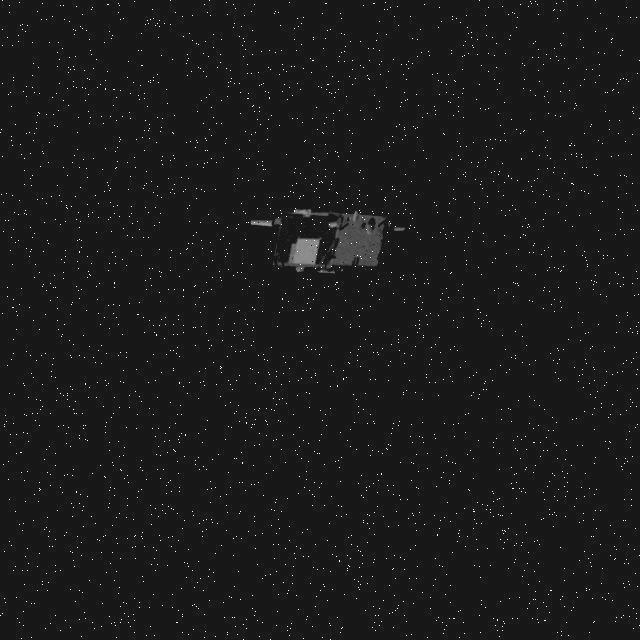medium_debris: (232, 190, 402, 286)
